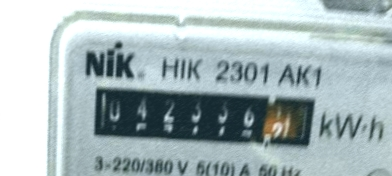0: (108, 95, 121, 124)
2: (160, 96, 178, 123)
3: (187, 95, 203, 125), (216, 96, 230, 124)
4: (134, 95, 150, 122)
6: (241, 101, 256, 129)
screen: (82, 74, 323, 159)
